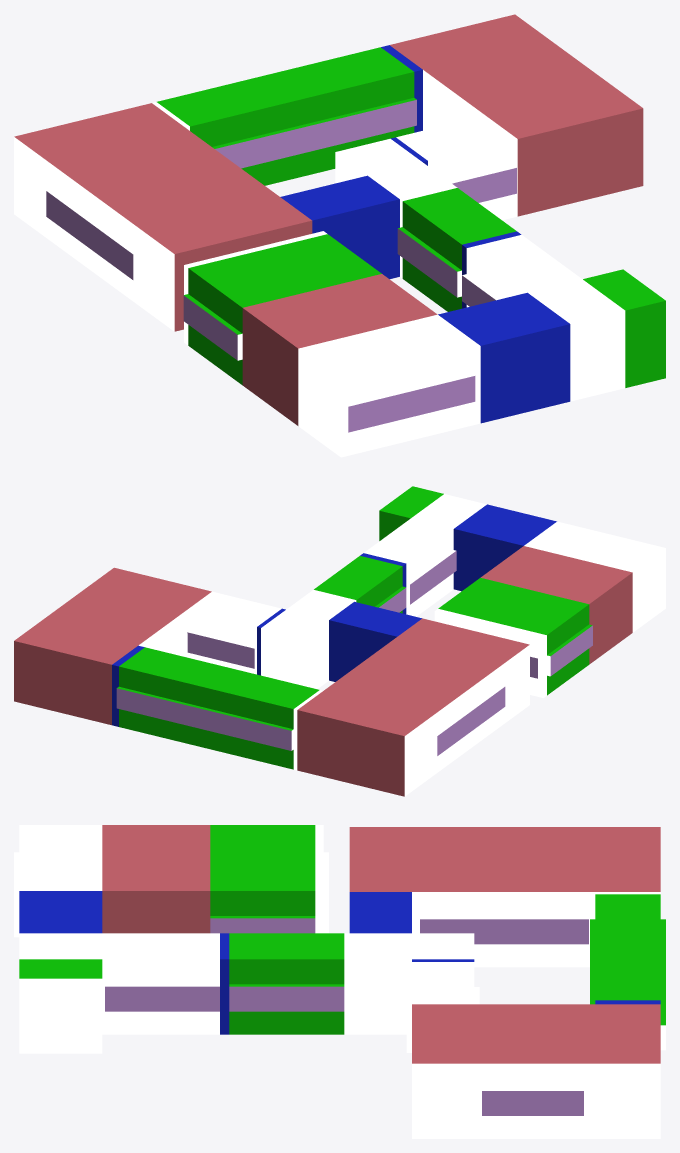
File: interior.fbx
3 views of the same model, one above another, from view 1: azimuth 30°, elevation 25°; view 2: azimuth 150°, elevation 25°; view 3: azimuth 270°, elevation 25° (orthographic). The views are drawn at different scales.
Parts seen in each view (by area): view 1: Cube; view 2: Cube; view 3: Cube.
Part boxes in pixels (x1,y1,x2,y2): Cube: [14, 14, 665, 457]; Cube: [14, 486, 665, 796]; Cube: [14, 825, 665, 1138].
Bounding box in the file's own units: 5551 × 800 × 6288.
